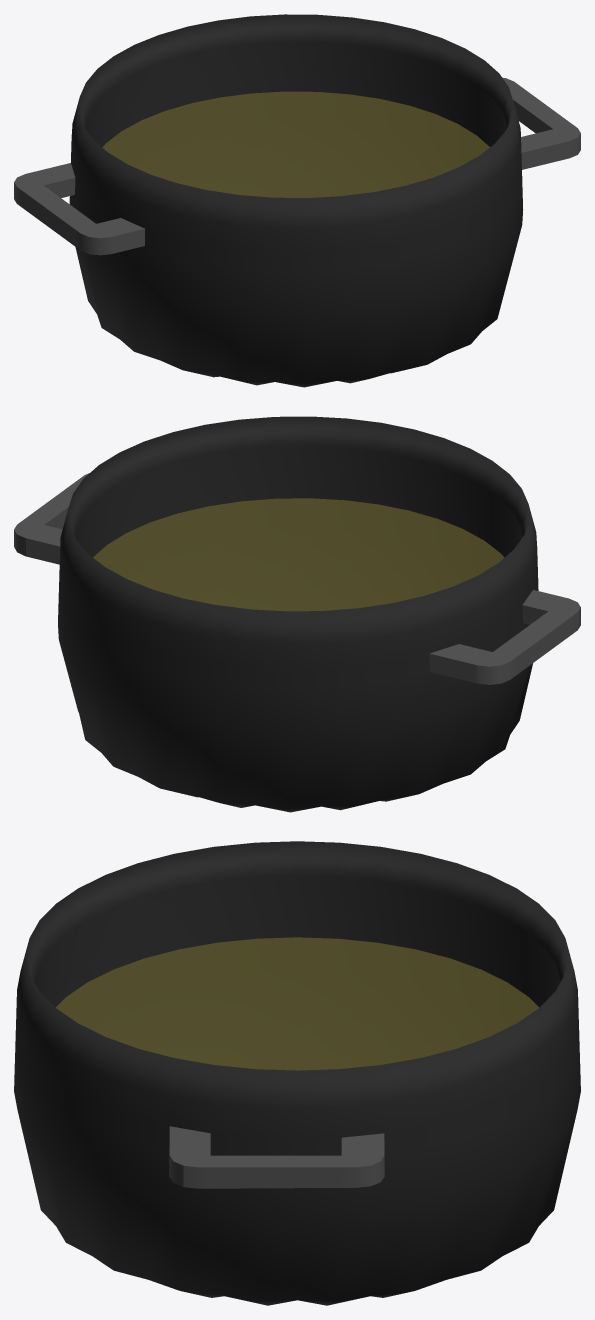
Rendered from Pot With Oil.fbx.
3 views of the same model, one above another, from view 1: azimuth 30°, elevation 25°; view 2: azimuth 150°, elevation 25°; view 3: azimuth 270°, elevation 25° (orthographic). The views are drawn at different scales.
Visible parts, largest first — view 1: Pot_with_Oil; view 2: Pot_with_Oil; view 3: Pot_with_Oil.
Boxes of the visible parts, x1=… form: Pot_with_Oil: x1=14, y1=14, x2=580, y2=387; Pot_with_Oil: x1=14, y1=416, x2=580, y2=812; Pot_with_Oil: x1=14, y1=841, x2=580, y2=1305.
Size of the model in its own units: 34.39 by 14.85 by 28.17.
